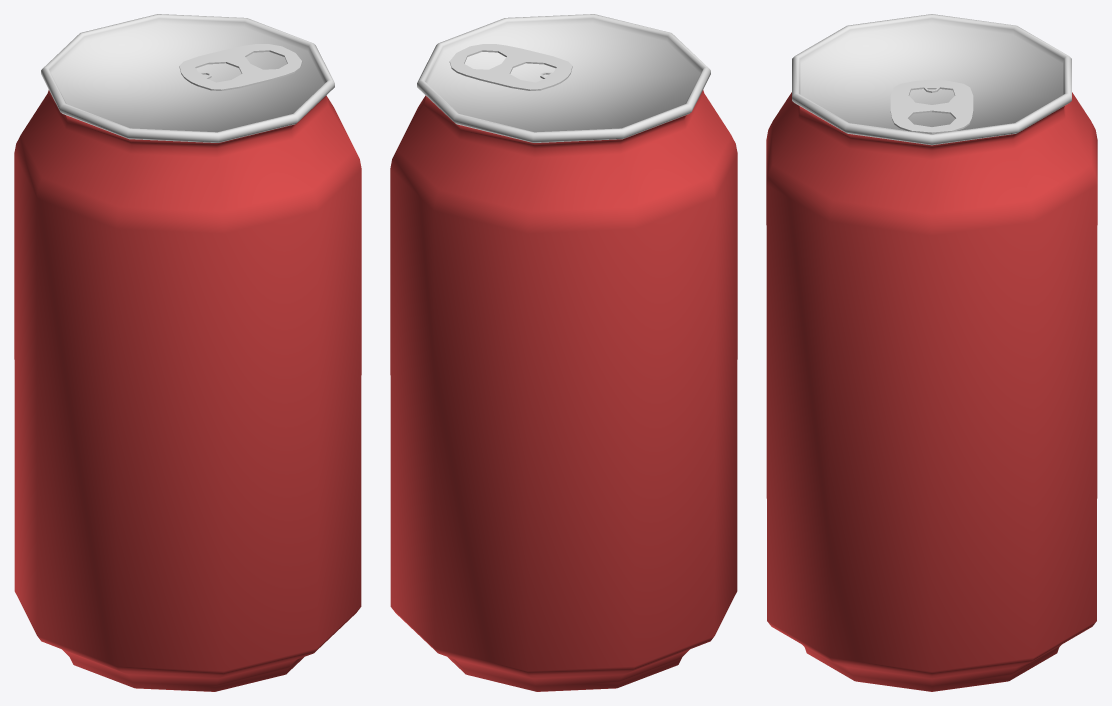
The model's file is Lata.fbx.
3 views of the same model, side by side, from view 1: azimuth 30°, elevation 25°; view 2: azimuth 150°, elevation 25°; view 3: azimuth 270°, elevation 25° (orthographic).
Visible parts, largest first — view 1: Lata; view 2: Lata; view 3: Lata.
Part boxes in pixels (bbox=[...]): Lata: bbox=[14, 14, 361, 691]; Lata: bbox=[390, 14, 737, 691]; Lata: bbox=[766, 14, 1097, 691].
Bounding box in the file's own units: 5.99 × 10.67 × 5.69.
